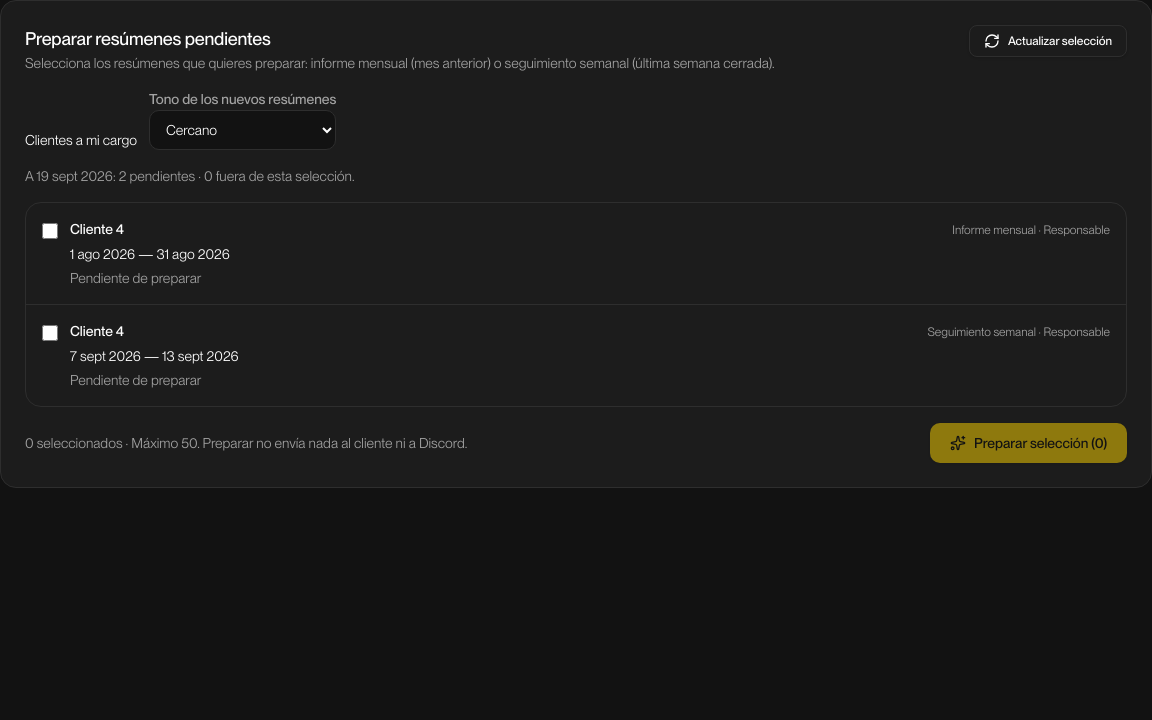
Test: lists both cadences of one client as separate rows and keys results by period
Click the checkbox named "Preparar Cliente 4 · Informe mensual" at (50, 231), box [42, 223, 58, 239]
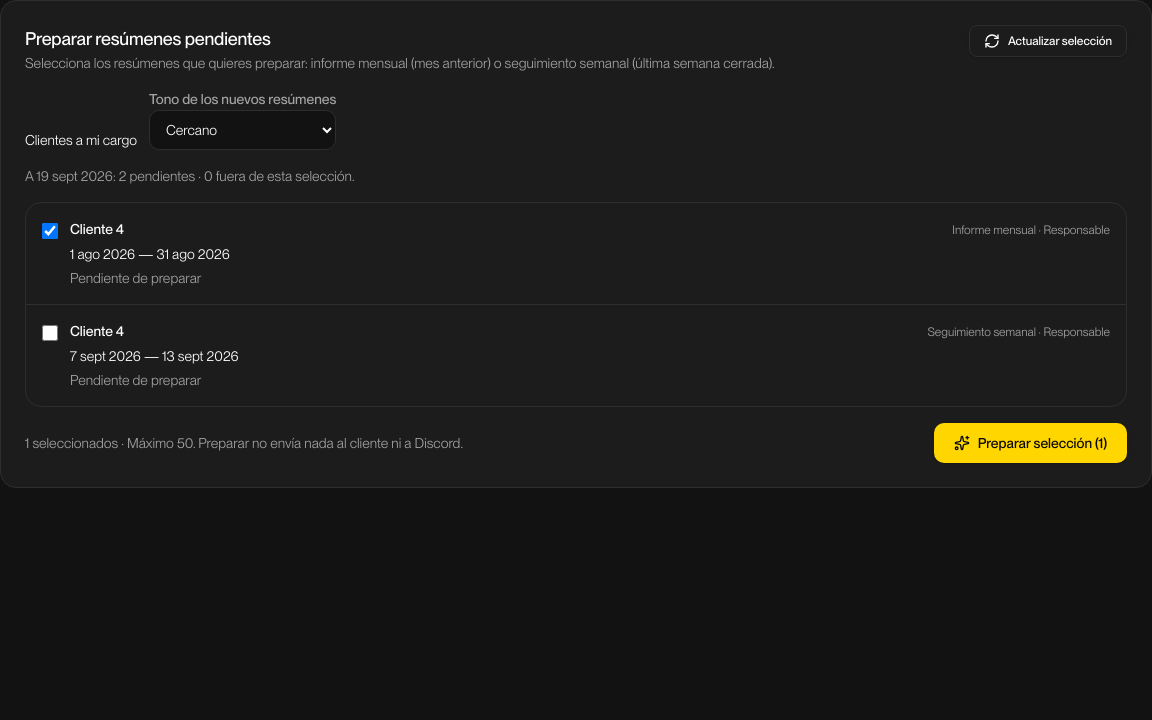
Click the checkbox named "Preparar Cliente 4 · Seguimiento semanal" at (50, 333), box [42, 325, 58, 341]
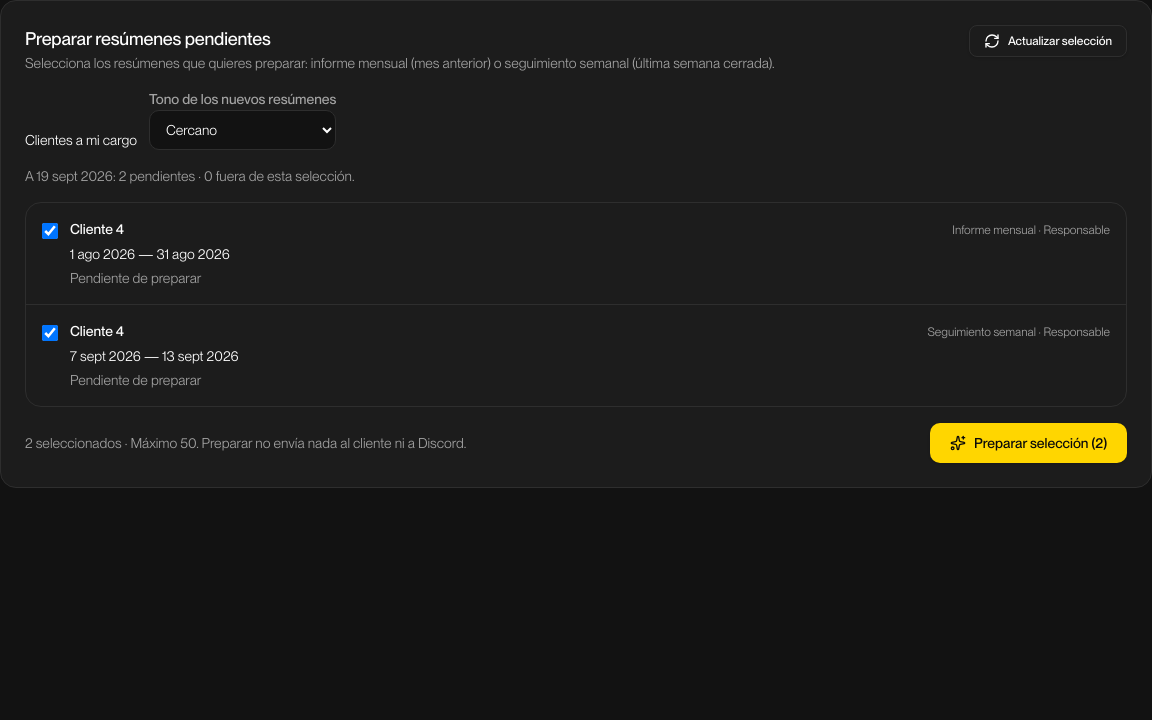
Click the button "Preparar selección (2)" at (1029, 443), box [930, 423, 1127, 463]
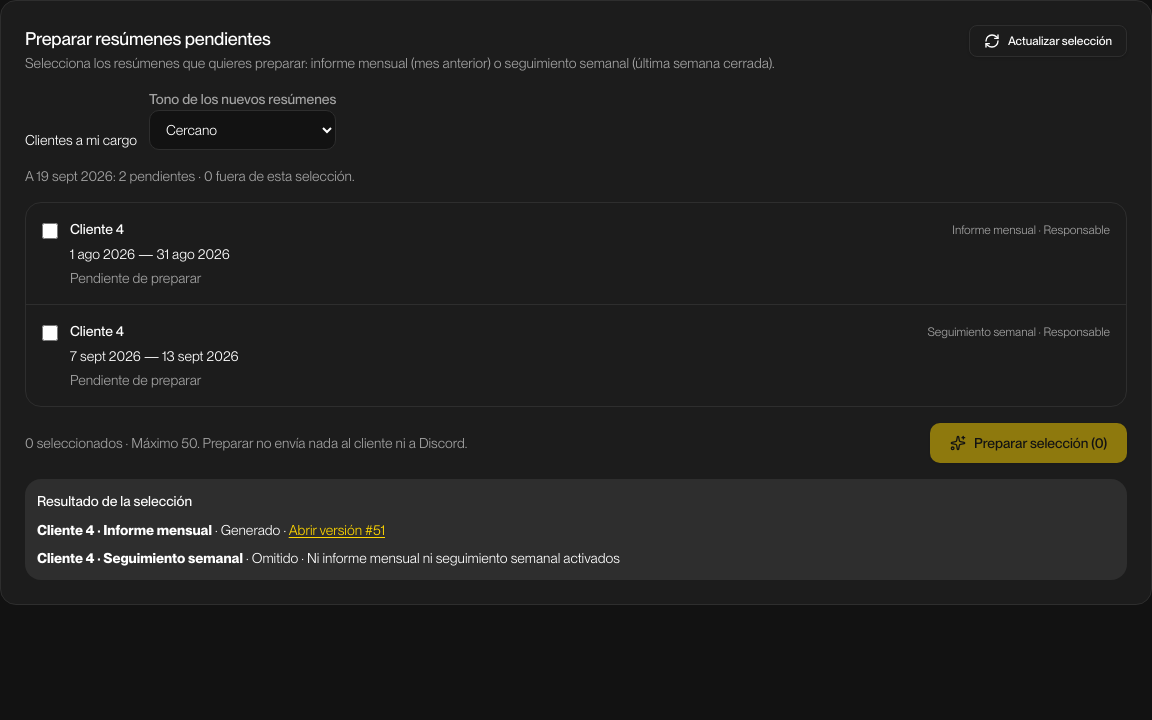
Expected: the list item "Cliente 4 · Informe mensual" shows "Generado", [221, 522, 280, 538]
Expected: the list item "Cliente 4 · Seguimiento semanal" shows "Omitido", [252, 550, 298, 566]
